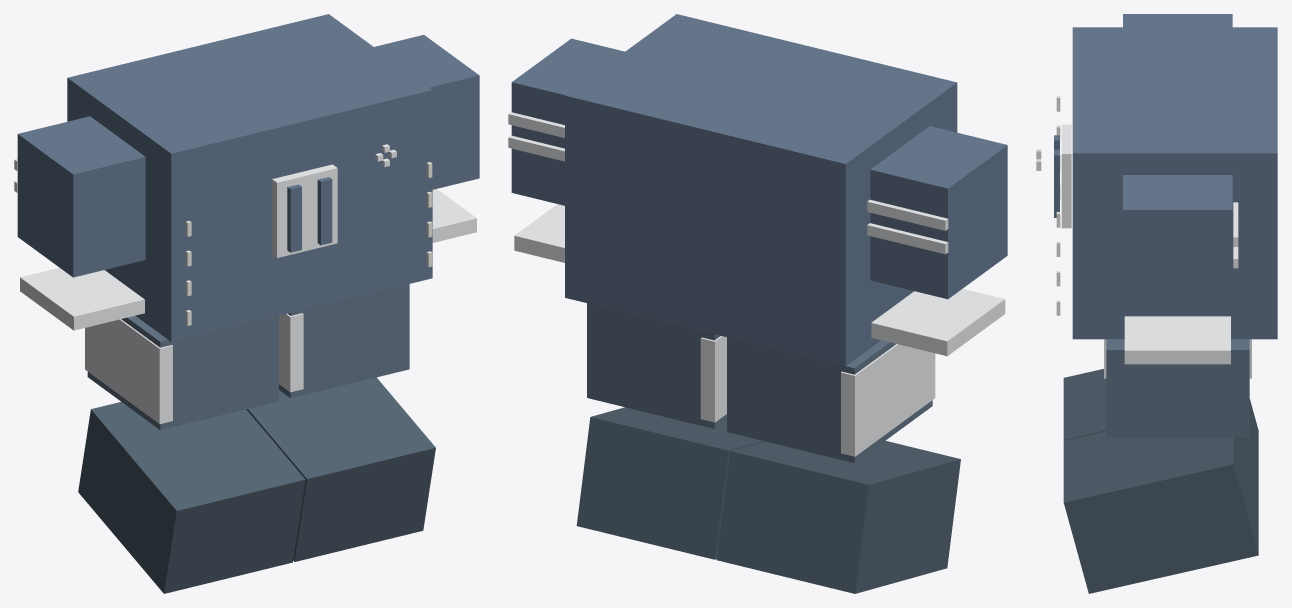
Rendered from sport-navy.glb.
3 views of the same model, side by side, from view 1: azimuth 30°, elevation 25°; view 2: azimuth 150°, elevation 25°; view 3: azimuth 270°, elevation 25° (orthographic). The views are drawn at different scales.
Parts seen in each view (by area): view 1: jacket, shoe-Right, shoe-Left, upper-sleeve-Right, trouser-Right, trouser-Left, upper-sleeve-Left, shorts-stripe-Right, cuff-Right, jersey-number, shorts-stripe-Left, cuff-Left (+2 smaller); view 2: jacket, shoe-Right, shoe-Left, upper-sleeve-Right, trouser-Right, trouser-Left, upper-sleeve-Left, shorts-stripe-Right, cuff-Right, shorts-stripe-Left, cuff-Left, design-sport-shoulder-stripe-Right-0 (+3 smaller); view 3: jacket, shoe-Left, upper-sleeve-Left, trouser-Left, cuff-Left, shoe-Right, upper-sleeve-Right, jersey-number, design-sport-number-eleven-0.025.
Boxes of the visible parts, x1=… form: jacket: x1=67, y1=14, x2=432, y2=341; shoe-Right: x1=78, y1=402, x2=305, y2=593; shoe-Left: x1=246, y1=377, x2=435, y2=561; upper-sleeve-Right: x1=17, y1=116, x2=145, y2=277; trouser-Right: x1=87, y1=316, x2=278, y2=429; trouser-Left: x1=279, y1=284, x2=409, y2=398; upper-sleeve-Left: x1=374, y1=35, x2=479, y2=189; shorts-stripe-Right: x1=85, y1=319, x2=172, y2=423; cuff-Right: x1=20, y1=267, x2=144, y2=330; jersey-number: x1=272, y1=164, x2=337, y2=257; shorts-stripe-Left: x1=279, y1=313, x2=303, y2=392; cuff-Left: x1=432, y1=189, x2=476, y2=242; jacket: x1=565, y1=14, x2=957, y2=366; shoe-Right: x1=717, y1=440, x2=960, y2=593; shoe-Left: x1=576, y1=407, x2=764, y2=559; upper-sleeve-Right: x1=870, y1=126, x2=1007, y2=299; trouser-Right: x1=727, y1=337, x2=932, y2=462; trouser-Left: x1=587, y1=303, x2=726, y2=428; upper-sleeve-Left: x1=511, y1=38, x2=624, y2=205; shorts-stripe-Right: x1=841, y1=344, x2=935, y2=456; cuff-Right: x1=871, y1=288, x2=1005, y2=356; shorts-stripe-Left: x1=700, y1=336, x2=726, y2=422; cuff-Left: x1=514, y1=204, x2=564, y2=262; design-sport-shoulder-stripe-Right-0: x1=867, y1=199, x2=948, y2=230; jacket: x1=1072, y1=27, x2=1277, y2=339; shoe-Left: x1=1063, y1=431, x2=1258, y2=593; upper-sleeve-Left: x1=1123, y1=175, x2=1232, y2=311; trouser-Left: x1=1106, y1=339, x2=1249, y2=437; cuff-Left: x1=1124, y1=316, x2=1230, y2=364; shoe-Right: x1=1063, y1=369, x2=1258, y2=492; upper-sleeve-Right: x1=1123, y1=14, x2=1232, y2=27; jersey-number: x1=1061, y1=124, x2=1071, y2=228; design-sport-number-eleven-0.025: x1=1054, y1=149, x2=1059, y2=217.
Bounding box in the file's own units: 1.07 × 1.13 × 0.559.
